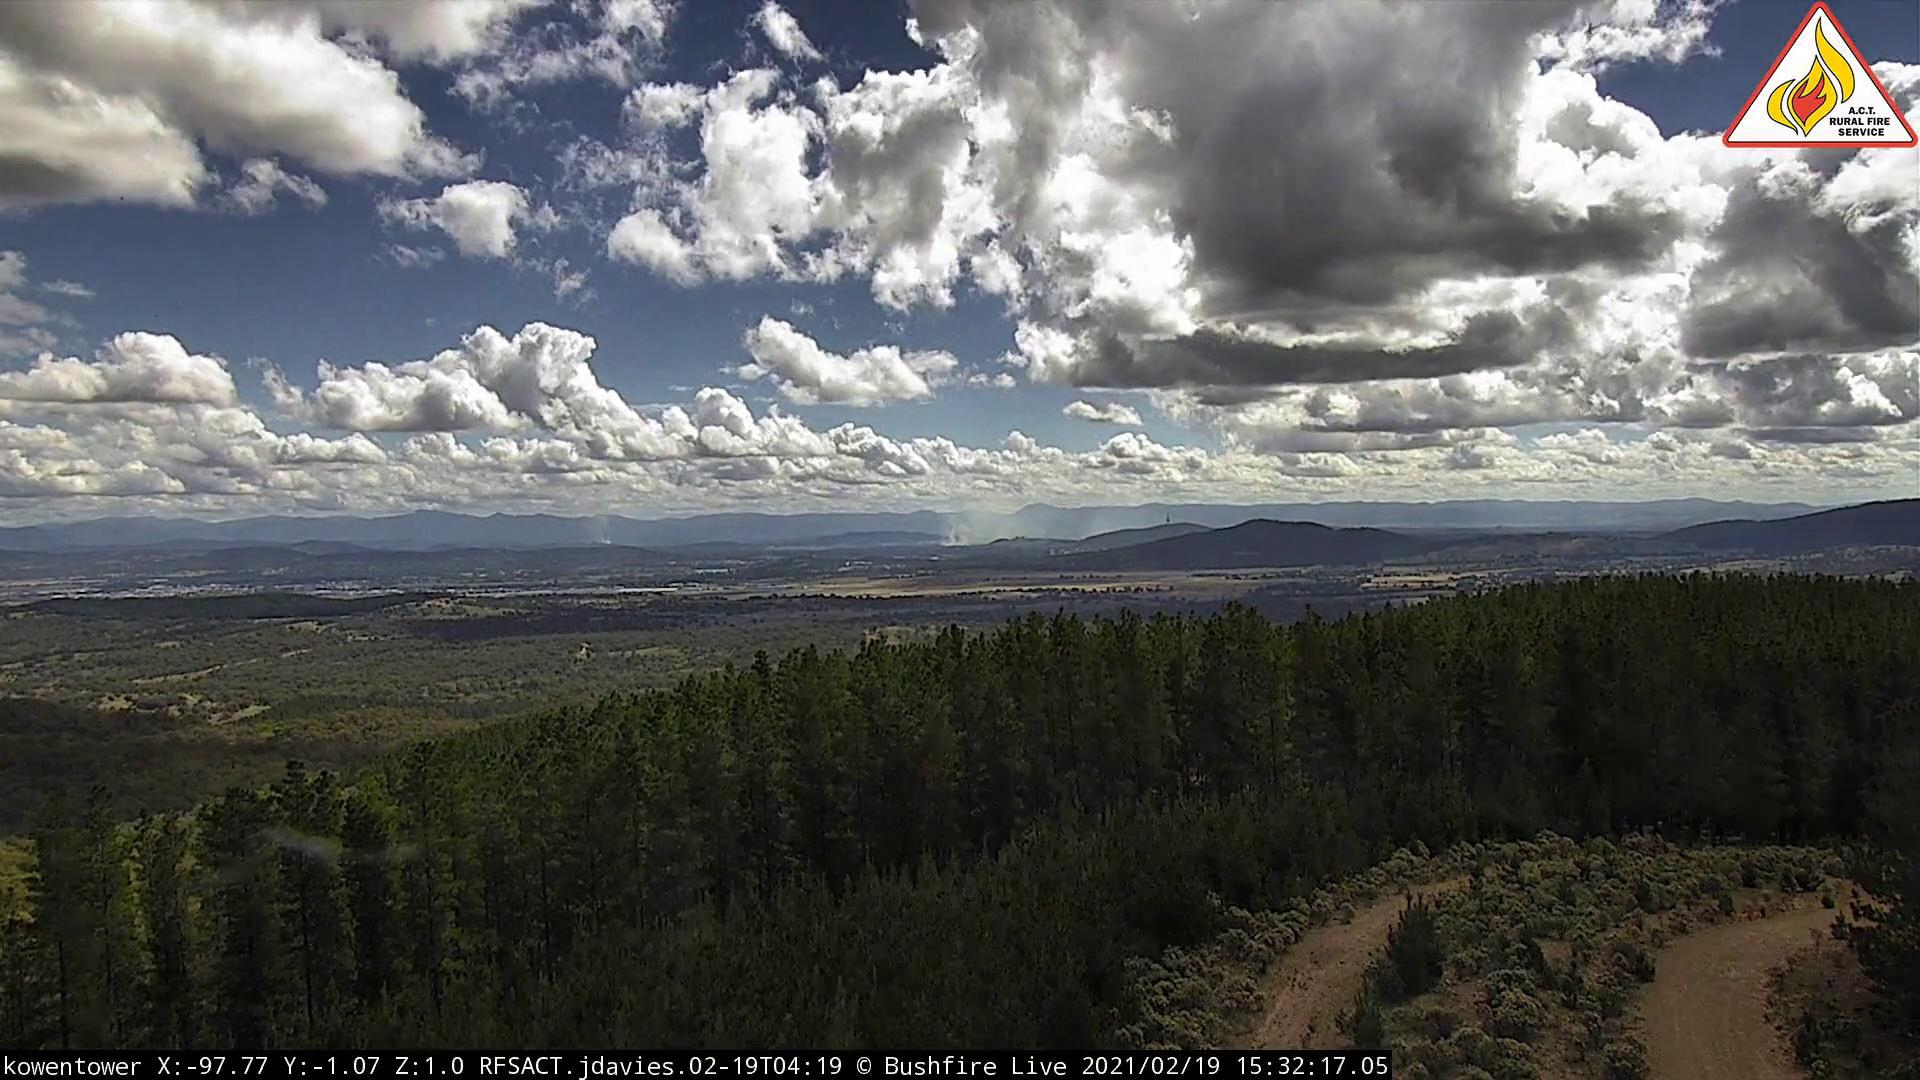Smoke: (939, 501, 1048, 550), (593, 527, 622, 550)
